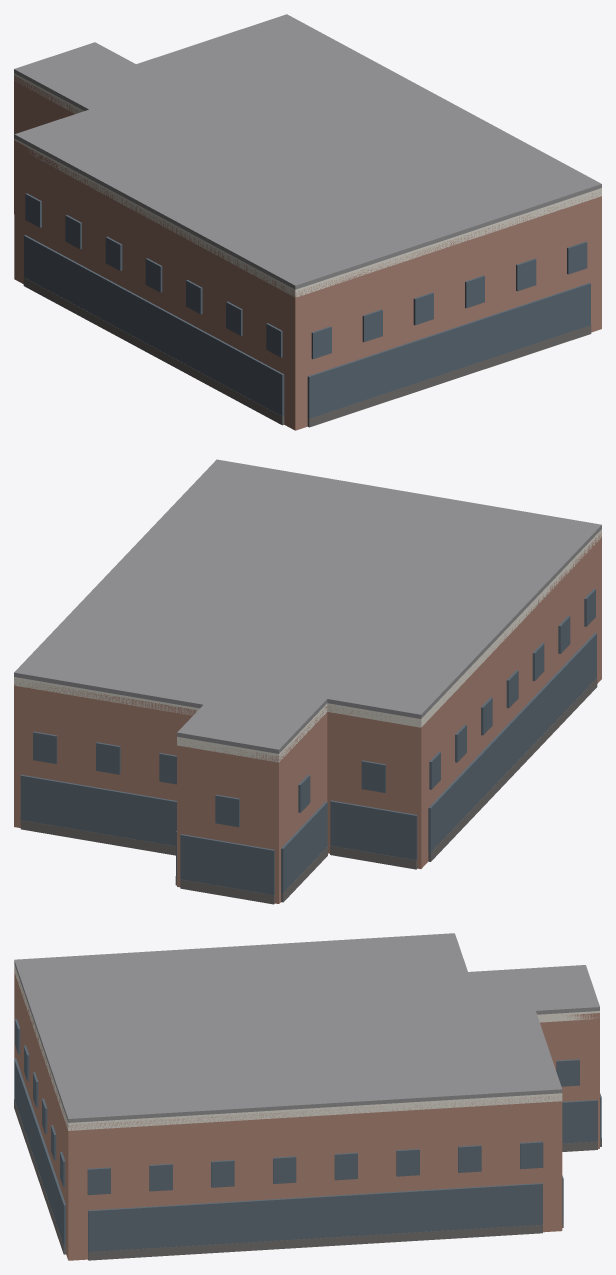
The model's file is s35_gis_248062_820786.glb.
3 renders of one model, top to bottom at view 1: azimuth 30°, elevation 25°; view 2: azimuth 150°, elevation 25°; view 3: azimuth 270°, elevation 25°, orthographic. The views are drawn at different scales.
Visible parts, largest first — view 1: roofcap, mass, store_3, store_2, cornice, bulk_3, bulk_2, win_3_0_0, win_3_0_2, win_3_0_5, win_3_0_1, win_3_0_4 (+1 smaller); view 2: roofcap, mass, store_2, store_5, cornice, store_7, store_1, store_0, bulk_2, bulk_5, bulk_7, bulk_1 (+4 smaller); view 3: roofcap, mass, store_4, cornice, bulk_4, store_3, store_6, win_4_0_1, win_4_0_0, win_4_0_4, win_4_0_6, win_4_0_7 (+5 smaller).
Part boxes in pixels (x1=…): roofcap: x1=14, y1=14, x2=601, y2=289; mass: x1=14, y1=75, x2=601, y2=430; store_3: x1=307, y1=282, x2=590, y2=423; store_2: x1=24, y1=235, x2=284, y2=421; cornice: x1=14, y1=73, x2=601, y2=297; bulk_3: x1=307, y1=325, x2=591, y2=427; bulk_2: x1=23, y1=277, x2=284, y2=425; win_3_0_0: x1=311, y1=326, x2=331, y2=359; win_3_0_2: x1=413, y1=292, x2=433, y2=325; win_3_0_5: x1=567, y1=241, x2=587, y2=274; win_3_0_1: x1=362, y1=309, x2=382, y2=342; win_3_0_4: x1=516, y1=258, x2=536, y2=291; roofcap: x1=14, y1=459, x2=601, y2=753; mass: x1=14, y1=531, x2=601, y2=903; store_2: x1=428, y1=633, x2=596, y2=857; store_5: x1=20, y1=774, x2=176, y2=846; cornice: x1=14, y1=529, x2=601, y2=762; store_7: x1=180, y1=834, x2=274, y2=897; store_1: x1=330, y1=800, x2=417, y2=860; store_0: x1=281, y1=801, x2=327, y2=897; bulk_2: x1=428, y1=678, x2=597, y2=861; bulk_5: x1=20, y1=820, x2=175, y2=855; bulk_7: x1=180, y1=879, x2=274, y2=904; bulk_1: x1=330, y1=845, x2=417, y2=869; roofcap: x1=14, y1=933, x2=599, y2=1122; mass: x1=14, y1=968, x2=599, y2=1260; store_4: x1=88, y1=1183, x2=542, y2=1256; cornice: x1=14, y1=964, x2=599, y2=1130; bulk_4: x1=88, y1=1224, x2=542, y2=1260; store_3: x1=14, y1=1058, x2=65, y2=1250; store_6: x1=562, y1=1099, x2=597, y2=1143; win_4_0_1: x1=149, y1=1163, x2=172, y2=1191; win_4_0_0: x1=87, y1=1167, x2=110, y2=1195; win_4_0_4: x1=334, y1=1152, x2=357, y2=1180; win_4_0_6: x1=458, y1=1145, x2=481, y2=1172; win_4_0_7: x1=520, y1=1141, x2=543, y2=1169.
Bounding box in the file's own units: 23.48 × 8.35 × 31.39.
